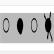correct: (16, 16, 24, 37)
no answer: (30, 14, 39, 37), (2, 16, 10, 38)
not correct: (43, 12, 53, 42)
